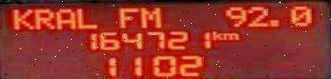-: (267, 18, 280, 27)
0: (149, 53, 176, 78), (287, 4, 313, 29)
1: (104, 54, 119, 77), (131, 54, 144, 77), (87, 30, 97, 51), (201, 30, 211, 50)
2: (178, 53, 202, 76), (166, 29, 190, 50), (246, 4, 267, 27)
4: (119, 31, 142, 48)
6: (98, 30, 119, 50)
7: (145, 30, 165, 49)
9: (222, 4, 246, 28)
X: (139, 6, 165, 27), (10, 7, 33, 29), (32, 7, 54, 30), (75, 7, 96, 28), (55, 7, 74, 30), (115, 6, 135, 27), (222, 31, 240, 40), (210, 29, 222, 40)
